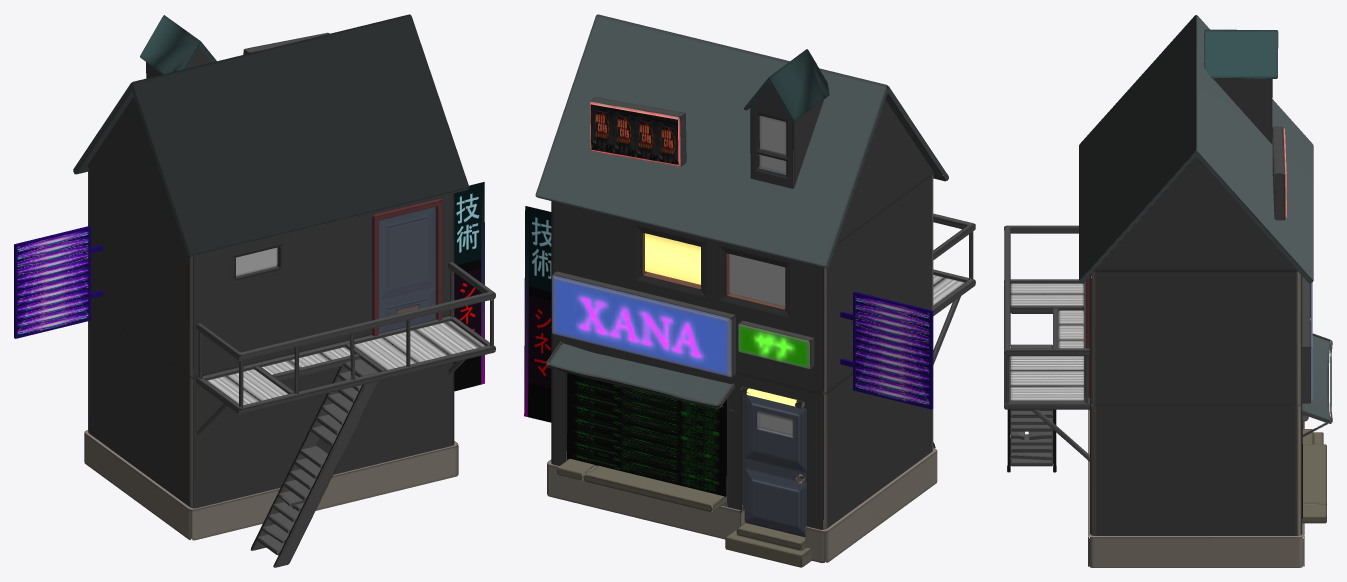
Rendered from FUT0310001.fbx.
3 views of the same model, side by side, from view 1: azimuth 30°, elevation 25°; view 2: azimuth 150°, elevation 25°; view 3: azimuth 270°, elevation 25° (orthographic). The views are drawn at different scales.
Visible parts, largest first — view 1: smFUT0310001; view 2: smFUT0310001; view 3: smFUT0310001.
Part boxes in pixels (<box>): smFUT0310001: <box>14,14,495,567</box>; smFUT0310001: <box>524,14,975,567</box>; smFUT0310001: <box>1004,15,1332,567</box>.
Size of the model in its own units: 614 by 682 by 453.
5 materials, 5 textured.
